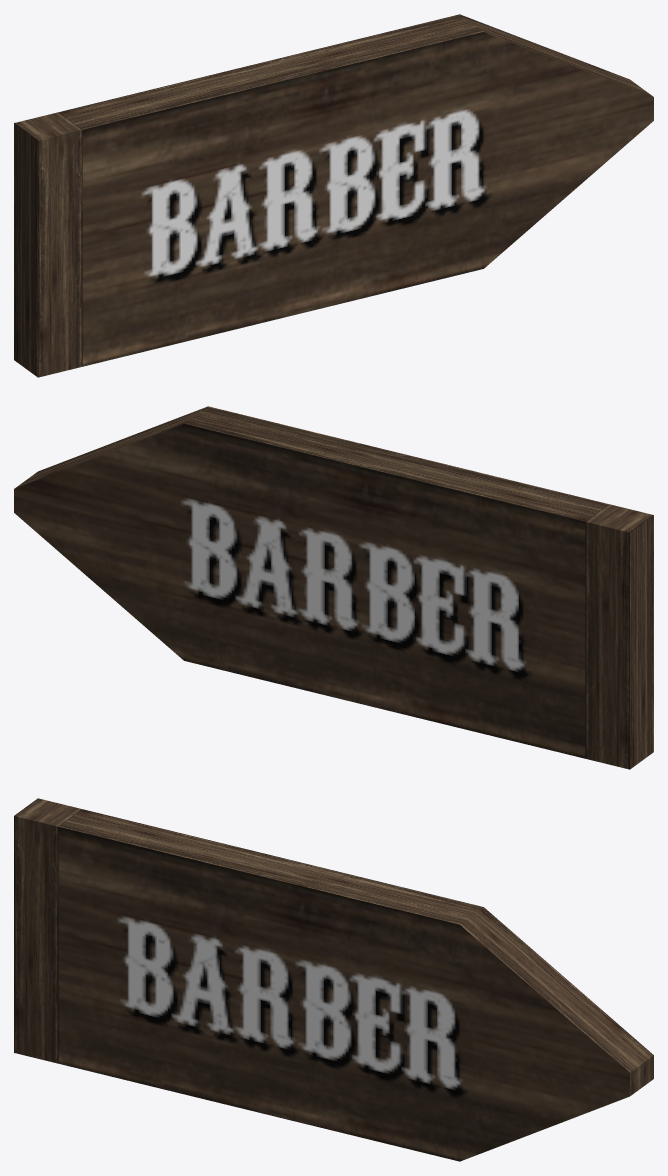
The model's file is wooden-sign-07.fbx.
The picture shows the model from 3 angles, top to bottom: view 1: azimuth 30°, elevation 25°; view 2: azimuth 150°, elevation 25°; view 3: azimuth 330°, elevation 25°; orthographic projection.
Parts seen in each view (by area): view 1: Cube.249; view 2: Cube.249; view 3: Cube.249.
Part boxes in pixels (<box>): Cube.249: <box>14,14,653,377</box>; Cube.249: <box>14,406,653,769</box>; Cube.249: <box>14,798,653,1161</box>.
Bounding box in the file's own units: 0.8128 × 0.2988 × 0.0549.
